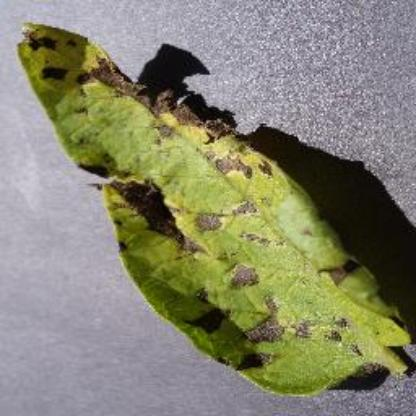Early-Blight: (15, 16, 415, 396)
